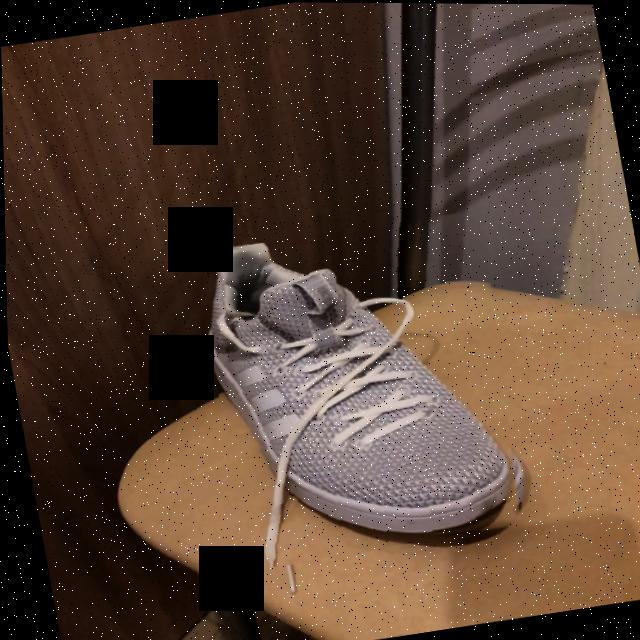shoe: (206, 243, 517, 561)
